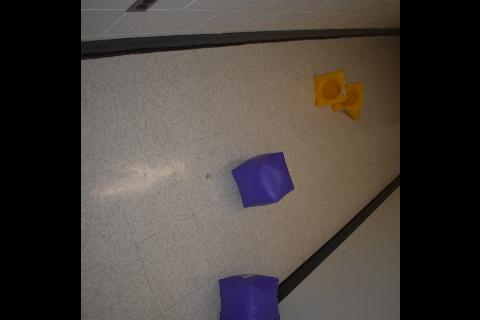cone: (312, 70, 348, 108), (331, 82, 363, 121)
cube: (229, 151, 294, 209), (217, 273, 280, 320)
